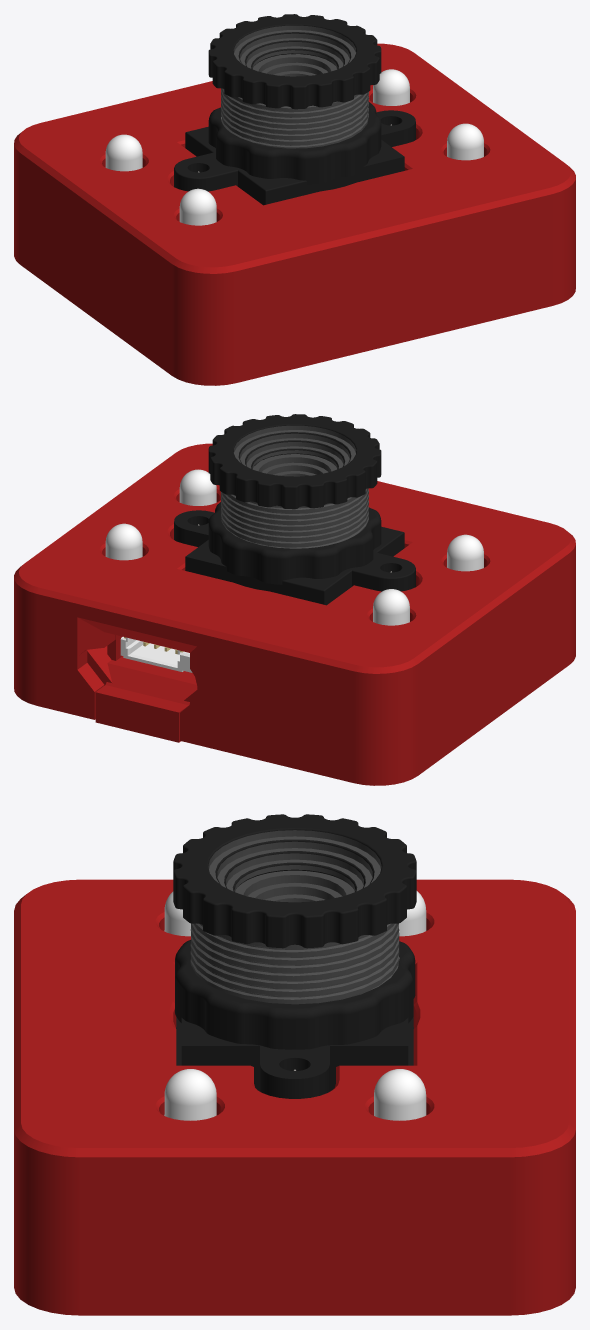
Rendered from Axiscope_Camera.gltf.
The picture shows the model from 3 angles, top to bottom: view 1: azimuth 30°, elevation 25°; view 2: azimuth 150°, elevation 25°; view 3: azimuth 270°, elevation 25°; orthographic projection. The views are drawn at different scales.
Parts seen in each view (by area): view 1: Case Upper, COMPOUND001, COMPOUND, LED Bulbs003, LED Bulbs002, LED Bulbs, LED Bulbs001; view 2: Case Upper, COMPOUND001, COMPOUND, Case Lower, Copy of sm04b-srss-tb_lf__sn_^OV9726 Camera module005, LED Bulbs001, LED Bulbs002, LED Bulbs003, LED Bulbs; view 3: Case Upper, COMPOUND001, COMPOUND, LED Bulbs, LED Bulbs001, LED Bulbs003, LED Bulbs002.
Boxes of the visible parts, left/top/right/bottom form: Case Upper: left=14, top=43, right=575, bottom=385; COMPOUND001: left=174, top=54, right=415, bottom=205; COMPOUND: left=208, top=14, right=381, bottom=109; LED Bulbs003: left=105, top=134, right=142, bottom=171; LED Bulbs002: left=179, top=188, right=216, bottom=225; LED Bulbs: left=447, top=123, right=483, bottom=160; LED Bulbs001: left=373, top=69, right=409, bottom=105; Case Upper: left=14, top=443, right=575, bottom=785; COMPOUND001: left=174, top=454, right=415, bottom=605; COMPOUND: left=208, top=414, right=381, bottom=509; Case Lower: left=87, top=635, right=197, bottom=742; Copy of sm04b-srss-tb_lf__sn_^OV9726 Camera module005: left=120, top=636, right=192, bottom=672; LED Bulbs001: left=105, top=523, right=142, bottom=560; LED Bulbs002: left=447, top=534, right=483, bottom=571; LED Bulbs003: left=373, top=589, right=409, bottom=625; LED Bulbs: left=179, top=469, right=216, bottom=505; Case Upper: left=14, top=879, right=575, bottom=1315; COMPOUND001: left=175, top=870, right=415, bottom=1098; COMPOUND: left=173, top=814, right=416, bottom=948; LED Bulbs: left=164, top=1069, right=216, bottom=1120; LED Bulbs001: left=374, top=1069, right=426, bottom=1120; LED Bulbs003: left=399, top=891, right=426, bottom=936; LED Bulbs002: left=164, top=891, right=190, bottom=936.
Size of the model in its own units: 0.0372 by 0.02 by 0.0322.
